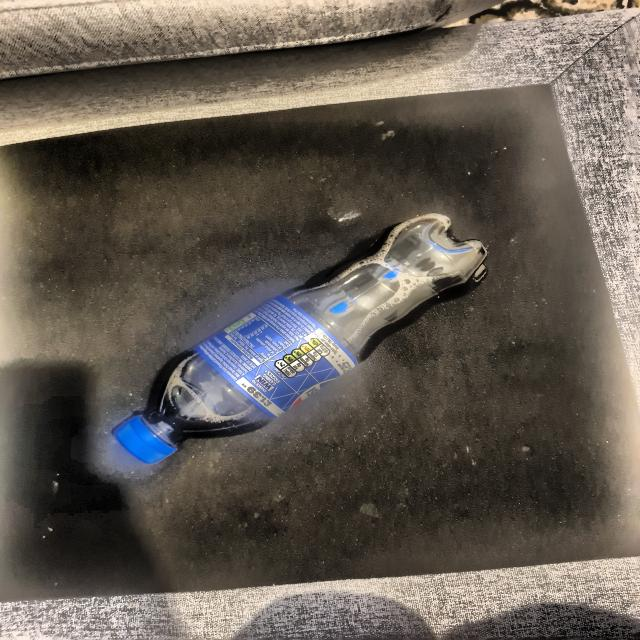pepsi-bottle: (112, 220, 491, 490)
